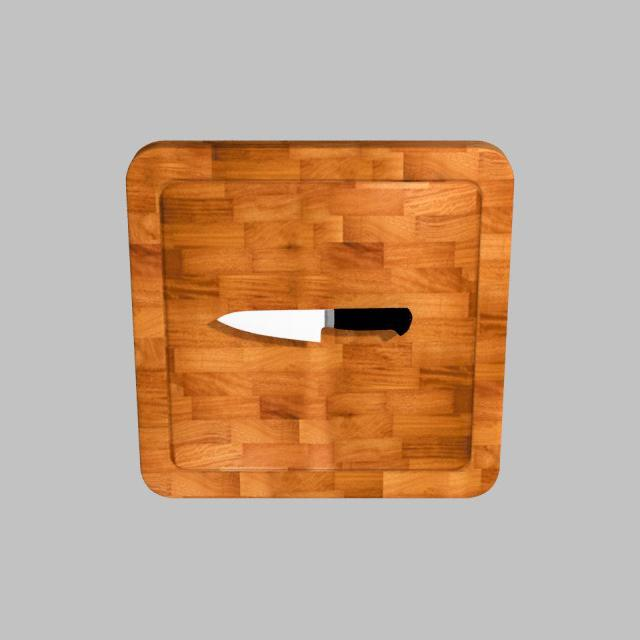knife: (334, 308, 412, 336)
